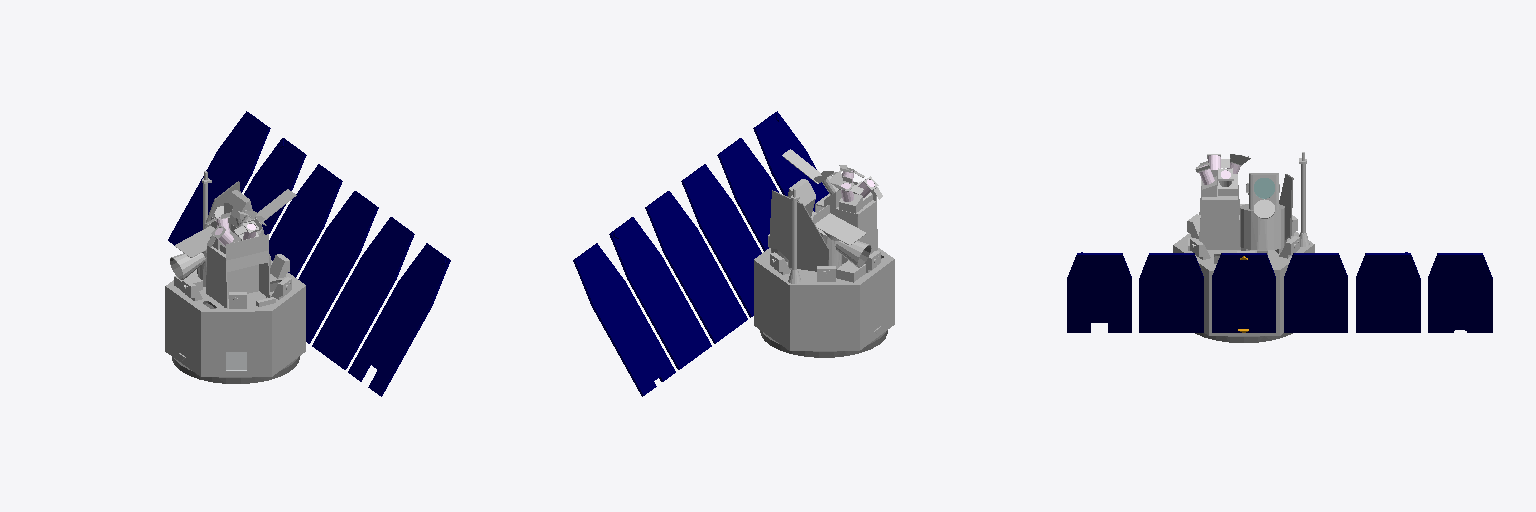
The model's file is AimSpacecraft.obj.
3 renders of one model, left to right at view 1: azimuth 30°, elevation 25°; view 2: azimuth 150°, elevation 25°; view 3: azimuth 270°, elevation 25°, orthographic.
Parts seen in each view (by area): view 1: ai_Part1.2, ai_Part13.23, ai_Part13.56, ai_Part13.141; view 2: ai_Part1.2, ai_Part13.23, ai_Part13.56, ai_Part4.10, ai_Part13.141; view 3: ai_Part1.2, ai_Part13.56, ai_Part13.23, ai_Part4.10, ai_Part13.141.
Part boxes in pixels (bbox=[...]): ai_Part1.2: bbox=[168, 111, 450, 396]; ai_Part13.23: bbox=[165, 190, 305, 376]; ai_Part13.56: bbox=[170, 171, 296, 308]; ai_Part13.141: bbox=[170, 258, 299, 383]; ai_Part1.2: bbox=[573, 111, 828, 396]; ai_Part13.23: bbox=[754, 179, 894, 350]; ai_Part13.56: bbox=[768, 149, 882, 283]; ai_Part4.10: bbox=[769, 190, 828, 271]; ai_Part13.141: bbox=[760, 245, 887, 357]; ai_Part1.2: bbox=[1067, 252, 1492, 332]; ai_Part13.56: bbox=[1187, 152, 1309, 259]; ai_Part13.23: bbox=[1173, 173, 1314, 335]; ai_Part4.10: bbox=[1279, 174, 1293, 243]; ai_Part13.141: bbox=[1195, 254, 1292, 342].
Bounding box in the file's own units: 65.07 × 56.37 × 128.